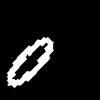chain: (7, 37, 53, 87)
